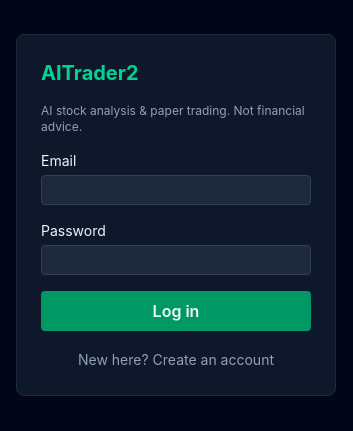
it: LoginPage › shows the backend error message on failed login
The width and height of the screenshot is (353, 431).
Type "a@b.com" into the field labelled "Email" at (176, 190), box x1=41 y1=175 x2=311 y2=205
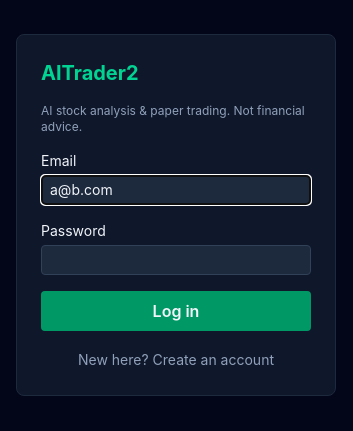
Type "wrongwrong" into the password field labelled "Password" at (176, 260), box x1=41 y1=245 x2=311 y2=275
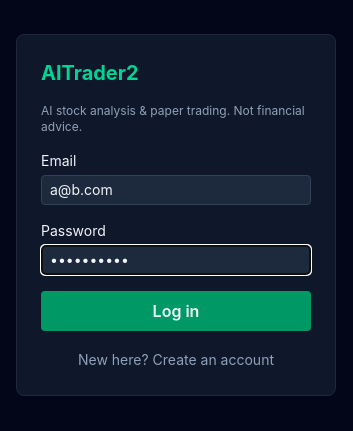
Click the button "Log in" at (176, 311), box x1=41 y1=291 x2=311 y2=331
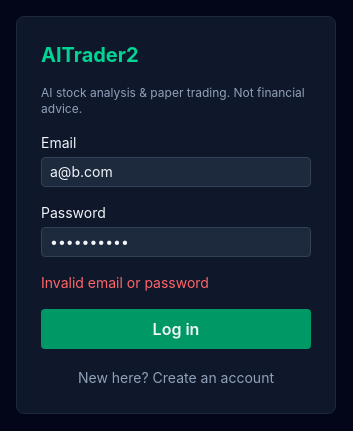
expect the message reads "Invalid email or password": met, box x1=41 y1=274 x2=209 y2=291
